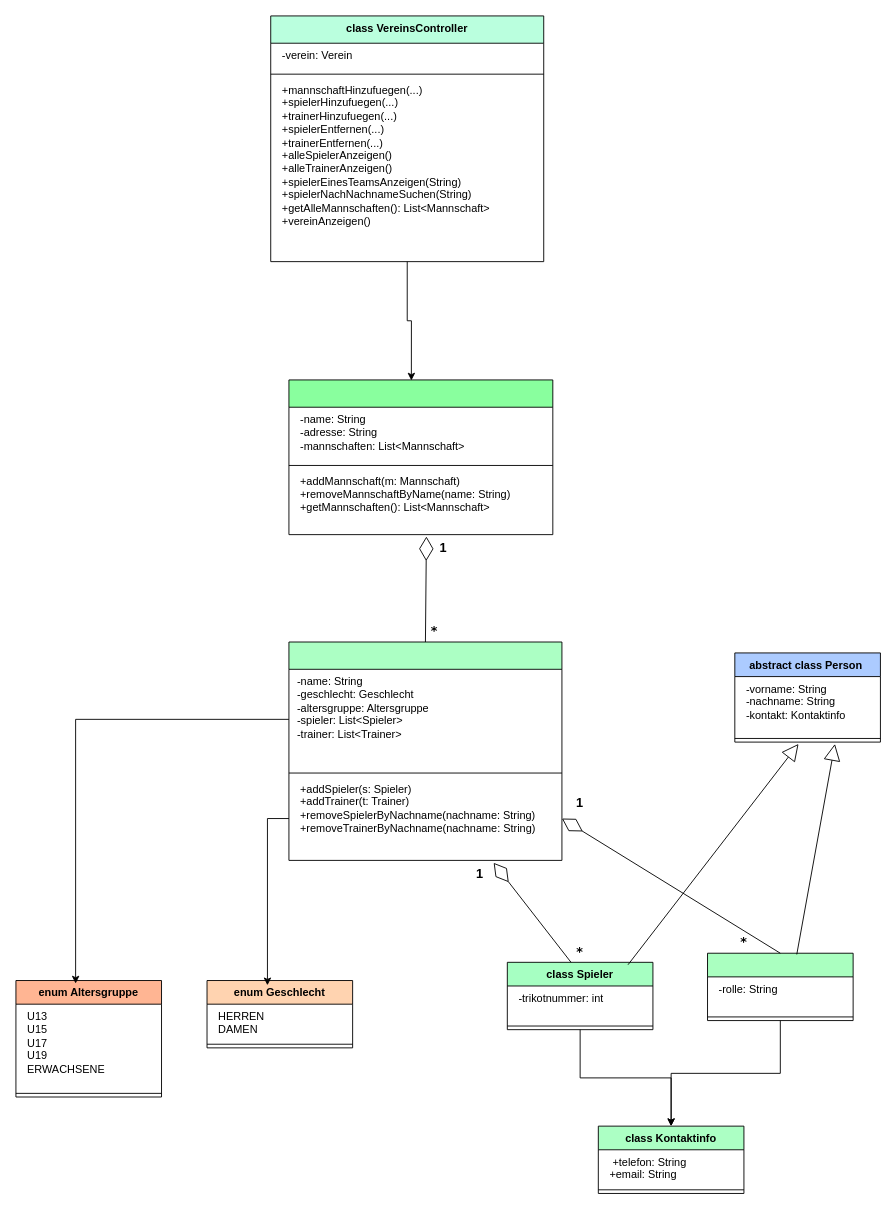
This 896x1209 diagram has some shape labels left out. Each missing label, with the box of its shape:
class Mannschaft: (288, 641, 562, 860)
class Trainer: (707, 952, 853, 1021)
class Verein: (288, 379, 553, 535)
